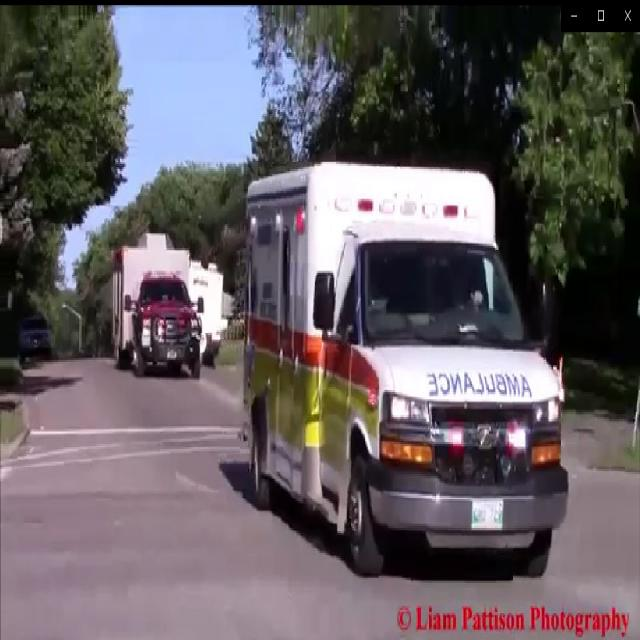emergency: (236, 150, 576, 591), (108, 243, 205, 385)
